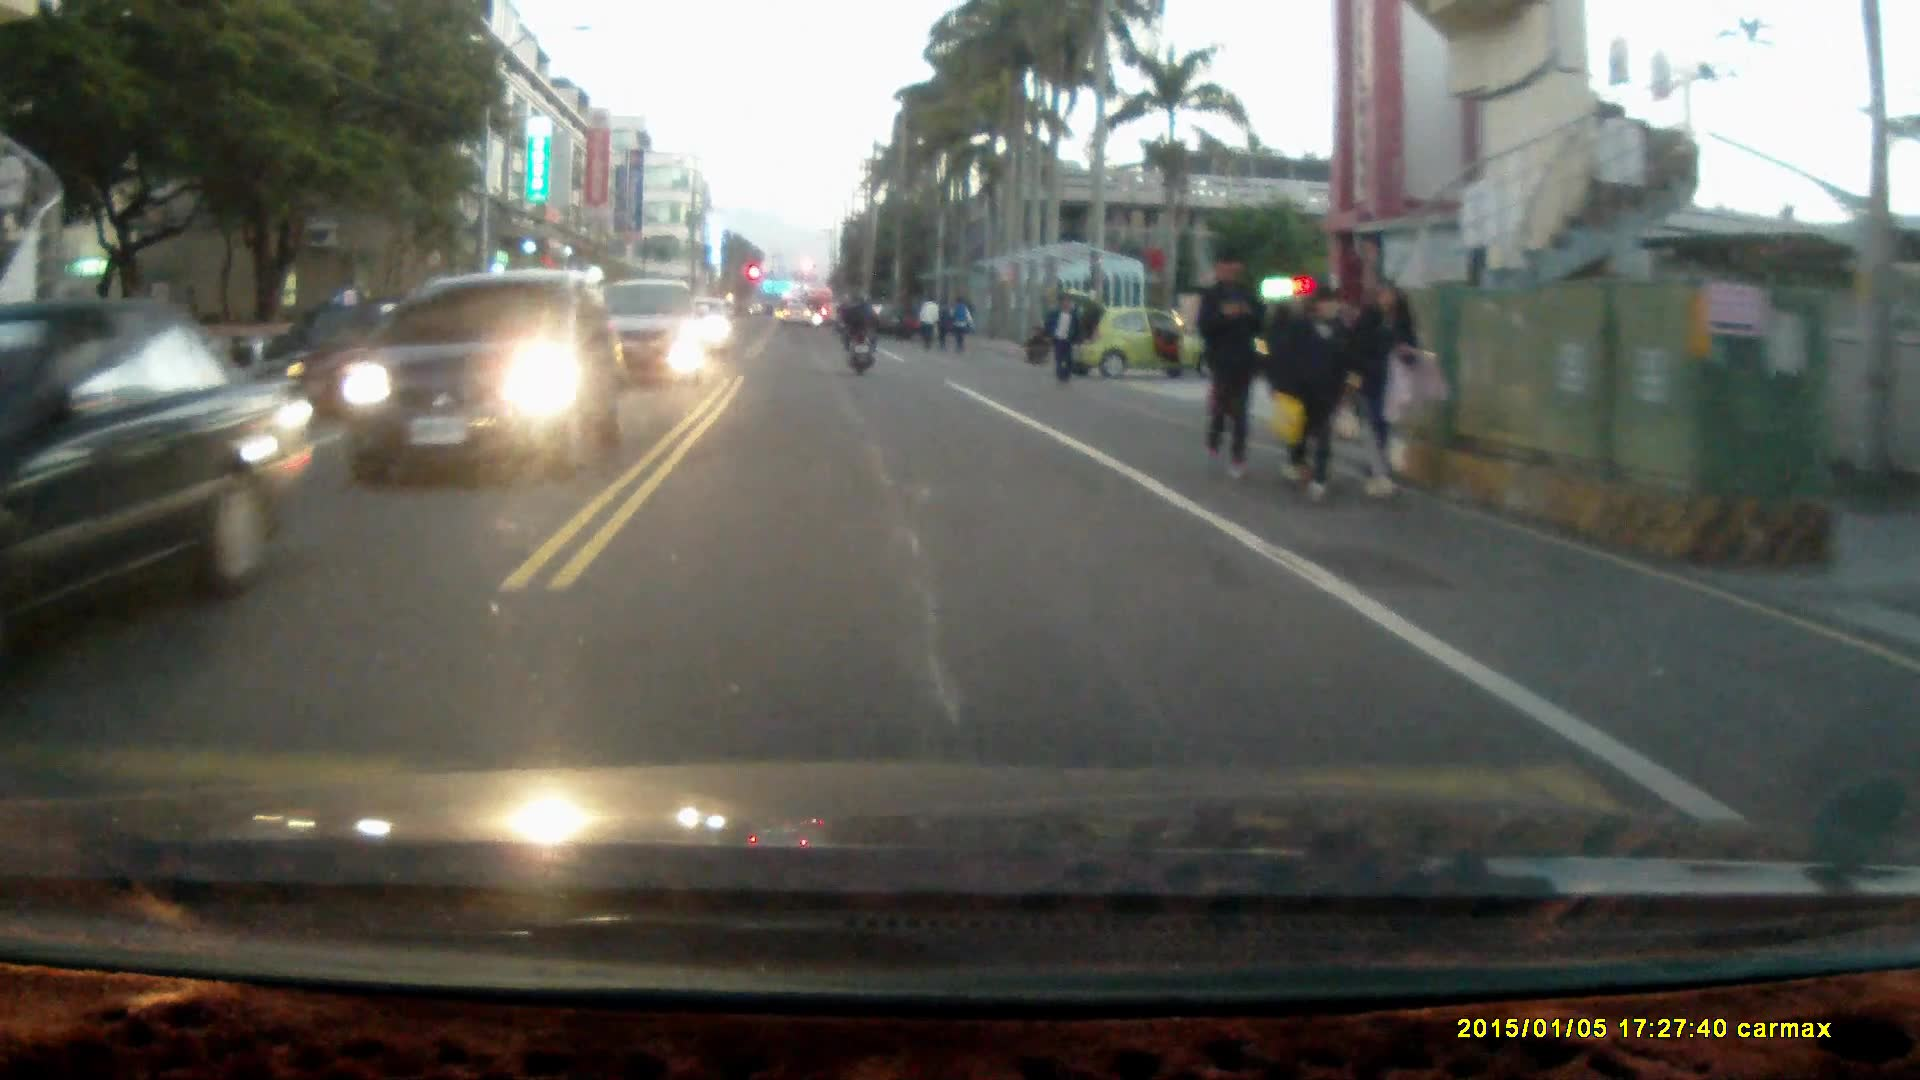pedestrian: (1262, 279, 1347, 499), (1195, 243, 1268, 484), (1345, 276, 1421, 507), (1044, 291, 1079, 387), (1020, 323, 1050, 367)
rider: (839, 289, 880, 377)
vehicle: (1, 289, 338, 660), (342, 265, 620, 479), (1058, 281, 1218, 374), (586, 276, 709, 383)
